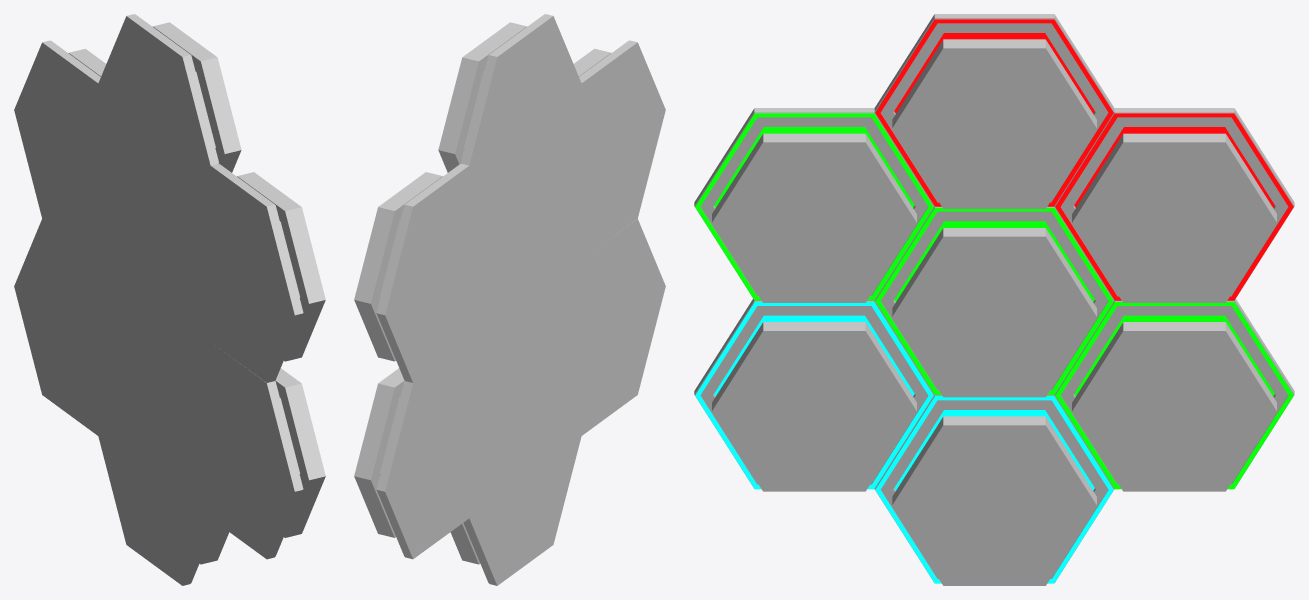
Rendered from Hexa.glb.
The picture shows the model from 3 angles, left to right: view 1: azimuth 30°, elevation 25°; view 2: azimuth 150°, elevation 25°; view 3: azimuth 270°, elevation 25°; orthographic projection. The views are drawn at different scales.
Visible parts, largest first — view 1: pDisc27; view 2: pDisc27; view 3: pDisc27.
Boxes of the visible parts, x1,y1,x2,y2 form: pDisc27: (14,14,325,585); pDisc27: (354,14,665,585); pDisc27: (694,14,1294,585).
Bounding box in the file's own units: 0.4838 × 6.23 × 6.
